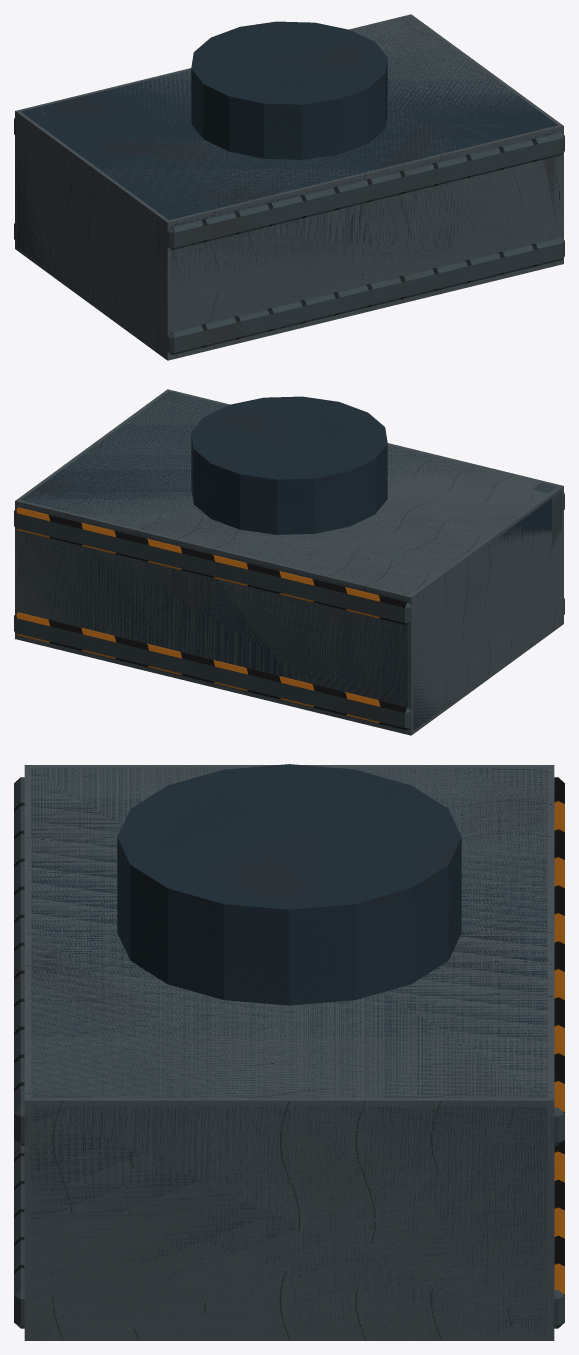
File: Cover_MachineBase.fbx
The picture shows the model from 3 angles, top to bottom: view 1: azimuth 30°, elevation 25°; view 2: azimuth 150°, elevation 25°; view 3: azimuth 270°, elevation 25°; orthographic projection. The views are drawn at different scales.
Visible parts, largest first — view 1: COL_Foundry_Cover_MachineBase_00_Both, ENV_Foundry_Cover_MachineBase_LOD0, COL_Foundry_Cover_MachineBase_01_Both; view 2: COL_Foundry_Cover_MachineBase_00_Both, ENV_Foundry_Cover_MachineBase_LOD0, COL_Foundry_Cover_MachineBase_01_Both; view 3: COL_Foundry_Cover_MachineBase_00_Both, ENV_Foundry_Cover_MachineBase_LOD0, COL_Foundry_Cover_MachineBase_01_Both.
Boxes of the visible parts, bbox=[...] form: COL_Foundry_Cover_MachineBase_00_Both: bbox=[15, 14, 563, 360]; ENV_Foundry_Cover_MachineBase_LOD0: bbox=[14, 17, 564, 354]; COL_Foundry_Cover_MachineBase_01_Both: bbox=[191, 21, 387, 159]; COL_Foundry_Cover_MachineBase_00_Both: bbox=[15, 389, 563, 735]; ENV_Foundry_Cover_MachineBase_LOD0: bbox=[14, 392, 564, 730]; COL_Foundry_Cover_MachineBase_01_Both: bbox=[191, 396, 387, 534]; COL_Foundry_Cover_MachineBase_00_Both: bbox=[24, 765, 554, 1340]; ENV_Foundry_Cover_MachineBase_LOD0: bbox=[14, 767, 564, 1334]; COL_Foundry_Cover_MachineBase_01_Both: bbox=[117, 764, 461, 1005].
Size of what is drawn, in the model's own units: 3 by 1.4 by 2.08.
